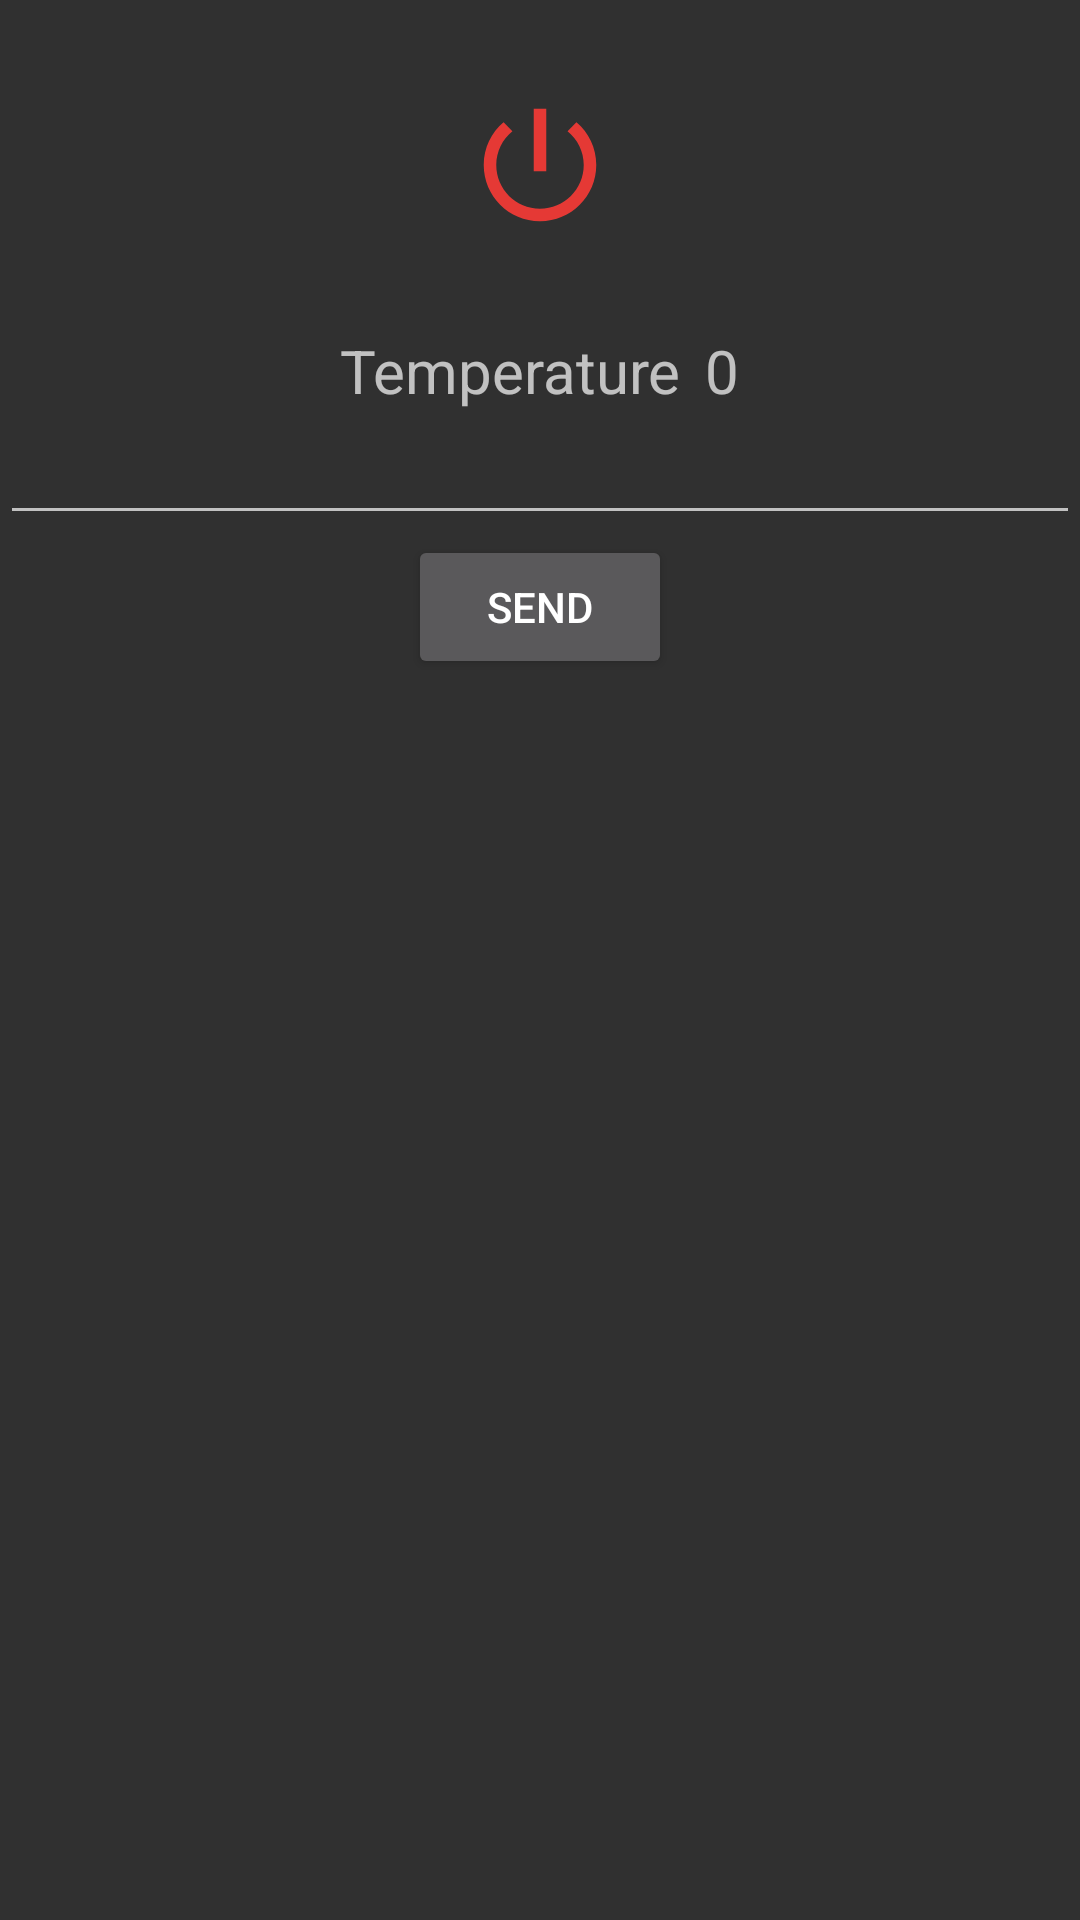

Where to tap for icons on this 1080px x 1920px app screen, as (x,y):
power: (540,165)
